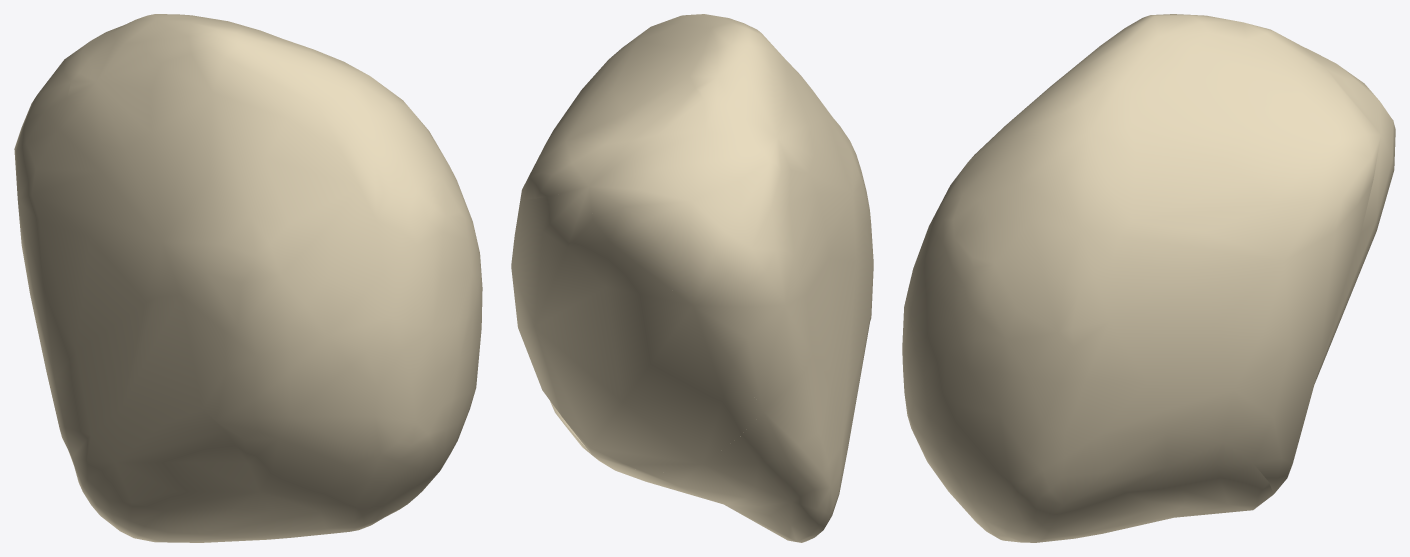
Rendered from esqueleto-pisiform-bone-l.glb.
3 renders of one model, left to right at view 1: azimuth 30°, elevation 25°; view 2: azimuth 150°, elevation 25°; view 3: azimuth 270°, elevation 25°, orthographic. The views are drawn at different scales.
Visible parts, largest first — view 1: Pisiform bone.l; view 2: Pisiform bone.l; view 3: Pisiform bone.l.
Part boxes in pixels (box(x1,y1,x2,y2)): Pisiform bone.l: box(14, 14, 482, 542); Pisiform bone.l: box(511, 14, 873, 542); Pisiform bone.l: box(902, 14, 1395, 542).
Size of the model in its own units: 0.00846 by 0.0121 by 0.0104.
